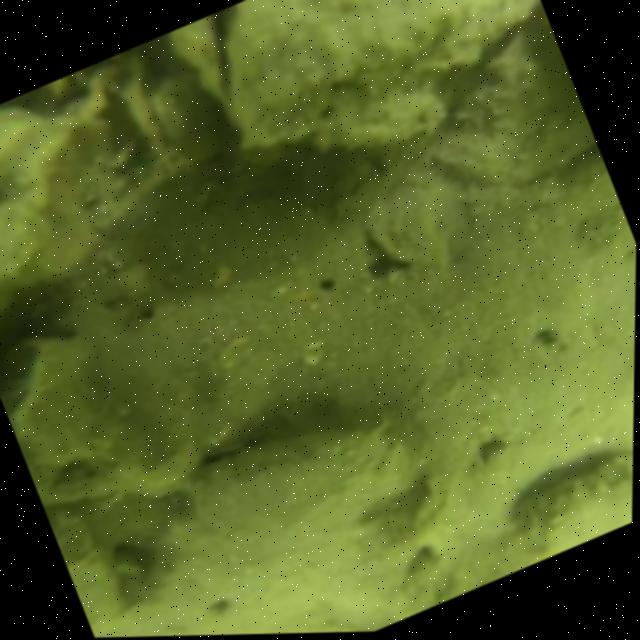Oyster-Closed: (173, 0, 543, 157)
Oyster-Indeterminate: (138, 423, 421, 636), (426, 14, 600, 174), (518, 460, 633, 552)
